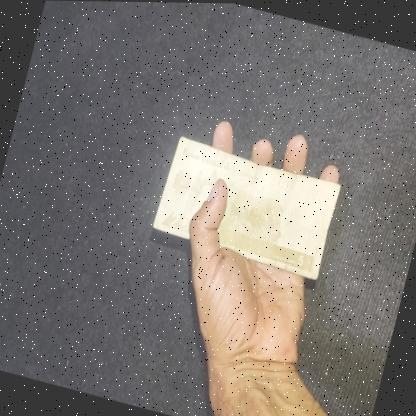five-back-vef: (151, 133, 343, 278)
